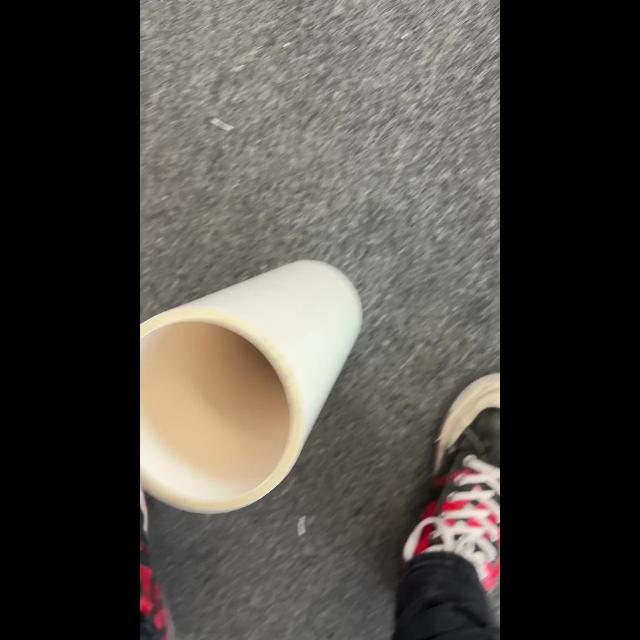CORAL: (141, 258, 363, 514)
